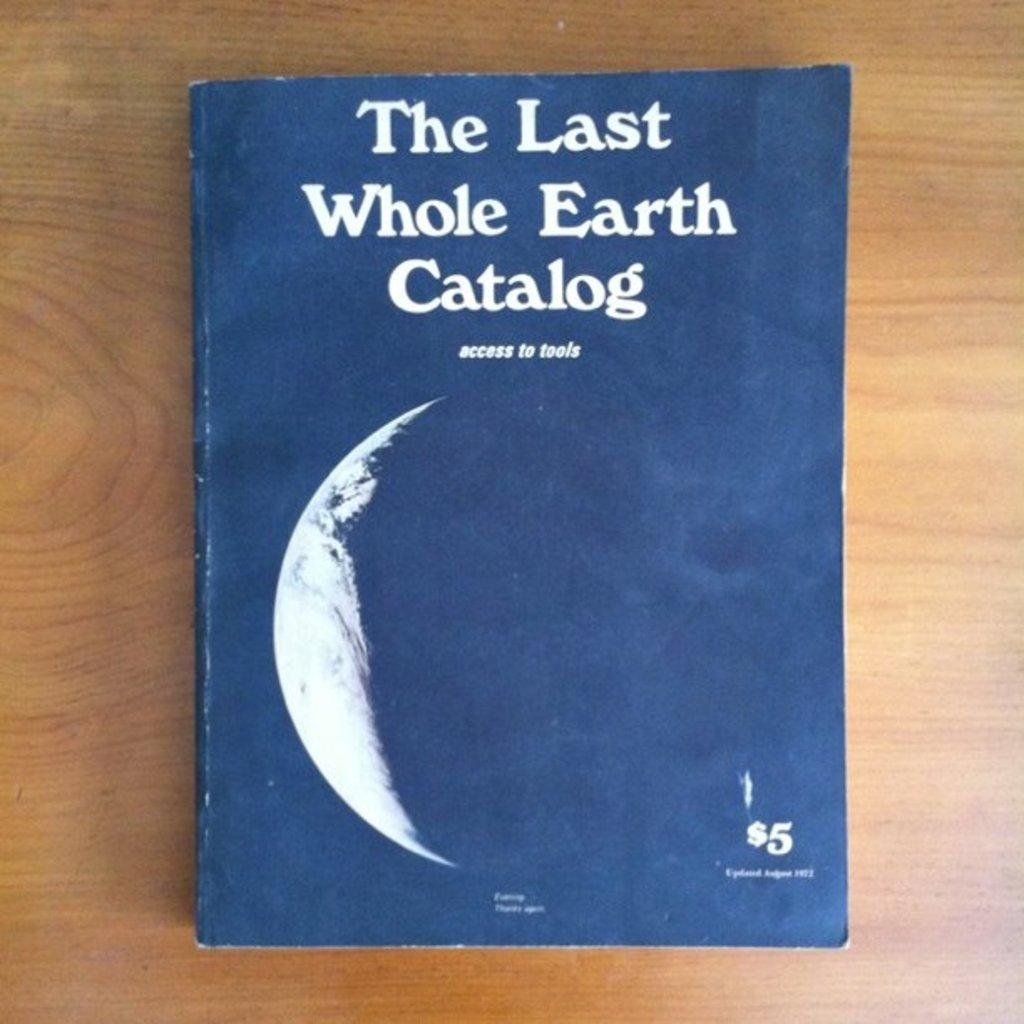book: (189, 64, 847, 952)
